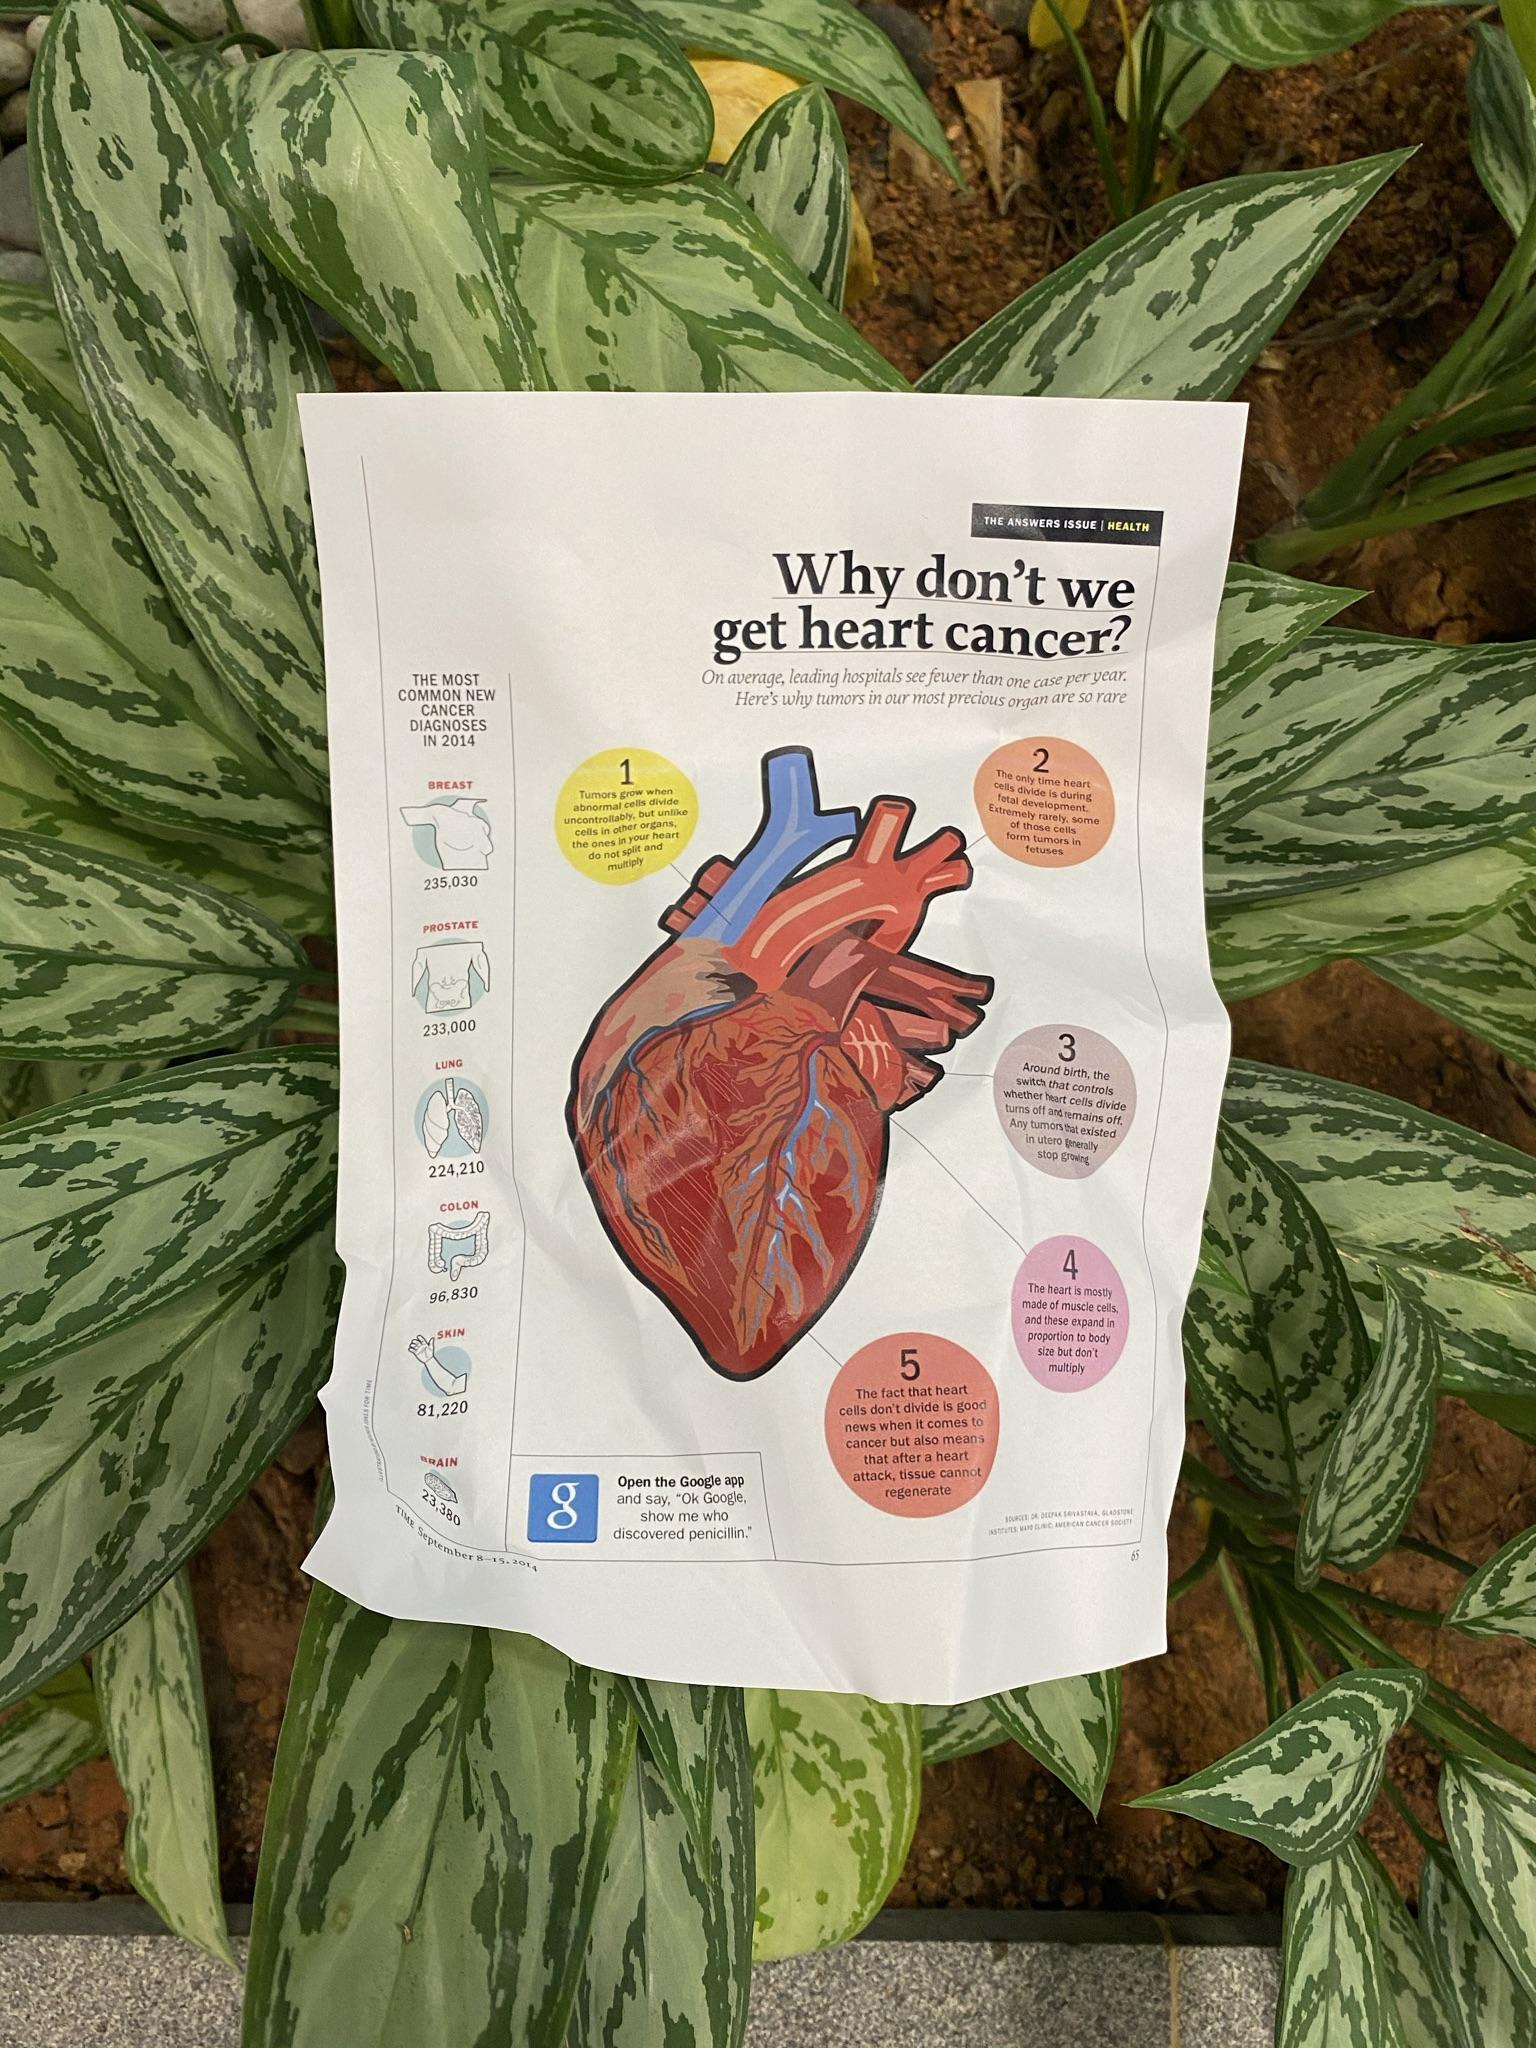paper: (116, 266, 1465, 1871)
